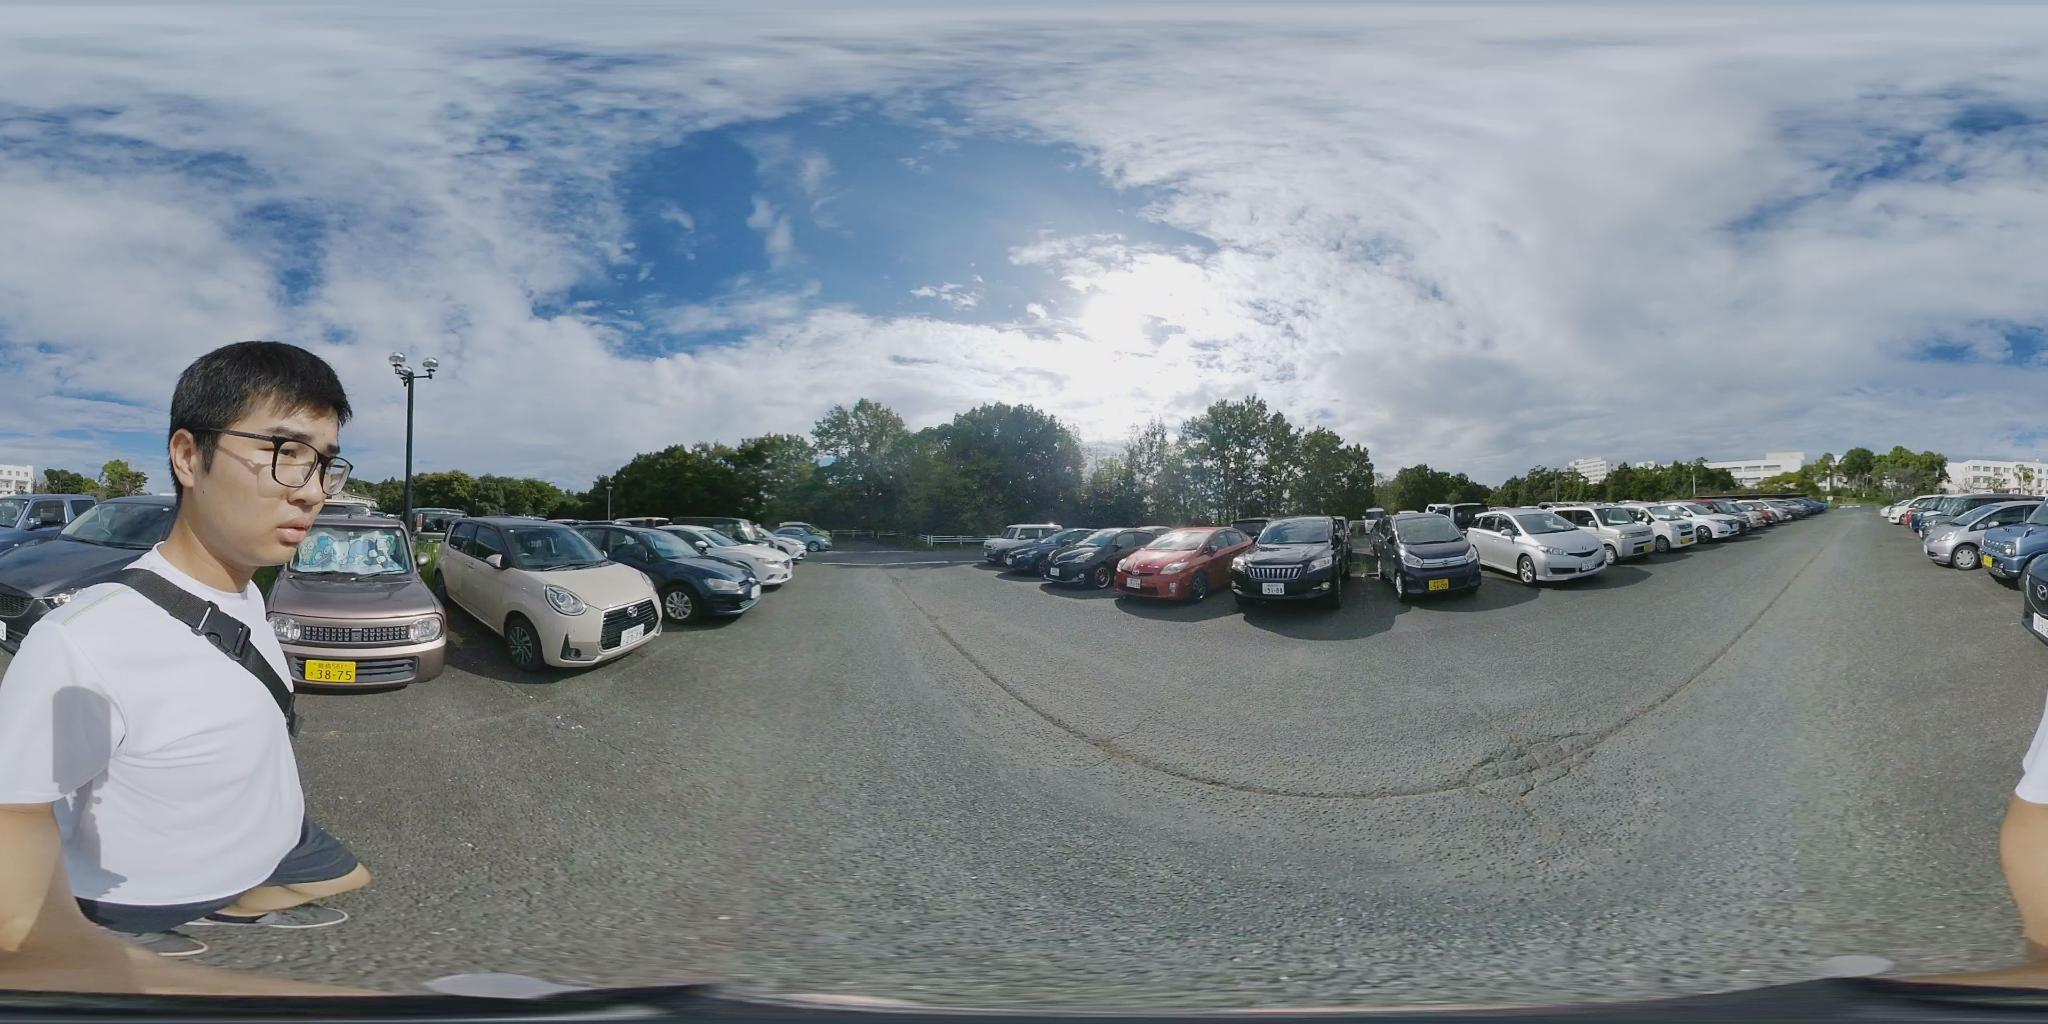car: (424, 519, 680, 678), (566, 522, 765, 626), (1458, 507, 1621, 581), (1236, 519, 1348, 614), (1117, 529, 1255, 601), (1923, 502, 2045, 569), (661, 520, 799, 580), (1378, 517, 1477, 597), (1037, 526, 1166, 586), (1902, 491, 2032, 538), (1571, 504, 1667, 559), (980, 524, 1064, 568), (1638, 504, 1708, 554), (765, 524, 831, 554), (1693, 512, 1755, 542), (1775, 499, 1825, 519)
